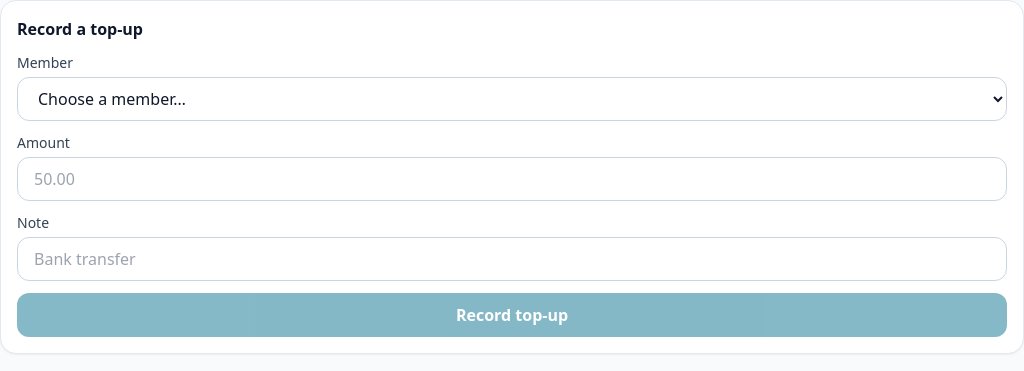
Test case: TopupForm › will not submit without a member or an amount
Expected: the button "Record top-up" is disabled, [17,293,1007,337]
Step 1. Select "Karthik" in the dropdown labelled "Member" → (512, 99), box [17,77,1007,121]
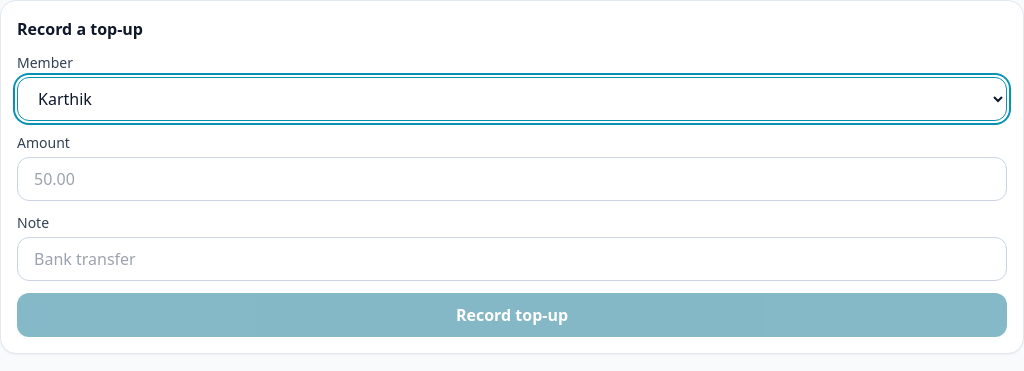
Expected: the button "Record top-up" is disabled, [17,293,1007,337]
Step 2. Type "50" into the number field labelled "Amount" → (512, 179), box [17,157,1007,201]
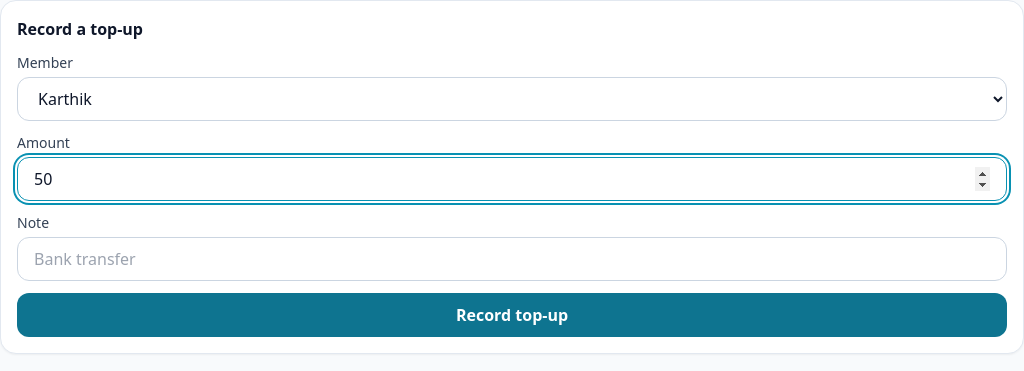
Expected: the button "Record top-up" is enabled, [17,293,1007,337]
